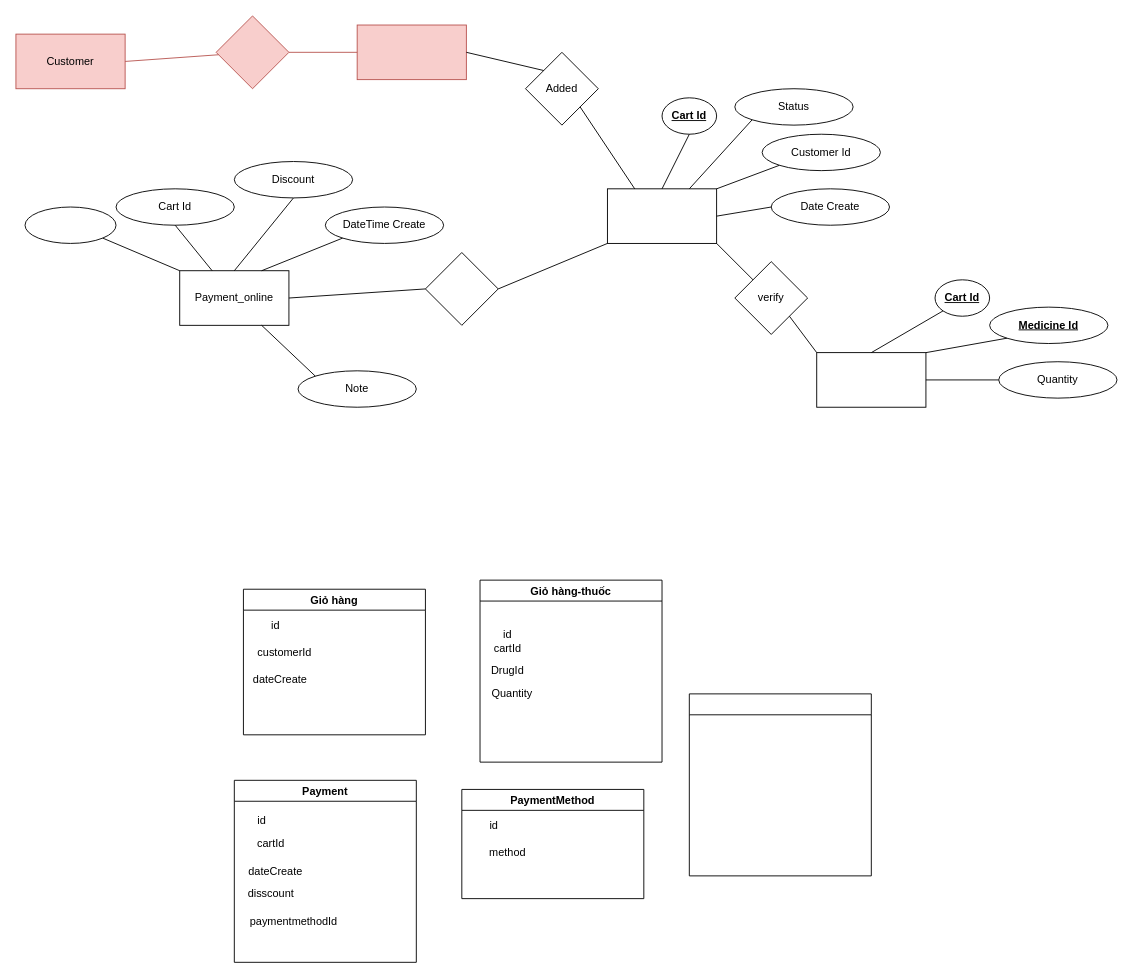
The diagram is 1133 pixels wide and 978 high, and some of its shapes have lost their labels. The centre of each missing label's shape, as x and y in pixels:
"Cart" belongs at (x=662, y=215).
"Cart_detail" belongs at (x=871, y=379).
"medicine" belongs at (x=411, y=52).
"Pay" belongs at (x=461, y=288).
"Payment Id" belongs at (x=70, y=224).
"select" belongs at (x=252, y=52).
"Thuốc" belongs at (x=779, y=784).
